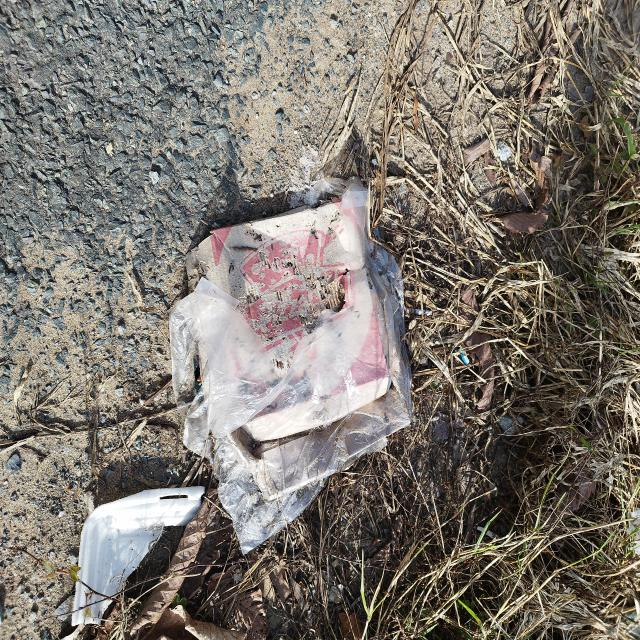trash bag: (168, 176, 414, 556)
